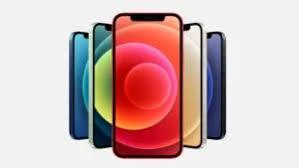Smartphone: (110, 12, 190, 160), (203, 21, 224, 144), (63, 26, 84, 143), (89, 15, 107, 151), (188, 18, 206, 148)
